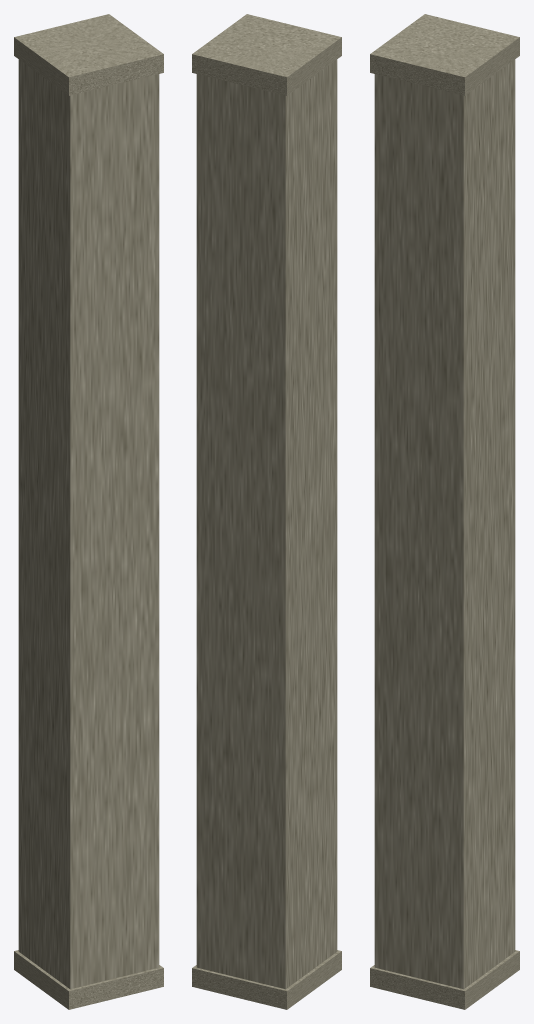
The model's file is pillar.glb.
3 views of the same model, side by side, from view 1: azimuth 30°, elevation 25°; view 2: azimuth 150°, elevation 25°; view 3: azimuth 330°, elevation 25° (orthographic).
Visible parts, largest first — view 1: pillar, pillar_cap, pillar_cap.001; view 2: pillar, pillar_cap, pillar_cap.001; view 3: pillar, pillar_cap, pillar_cap.001.
Part boxes in pixels (x1=…): pillar: x1=18, y1=16, x2=159, y2=989; pillar_cap: x1=14, y1=14, x2=163, y2=95; pillar_cap.001: x1=14, y1=950, x2=163, y2=1009; pillar: x1=196, y1=18, x2=337, y2=989; pillar_cap: x1=192, y1=14, x2=341, y2=95; pillar_cap.001: x1=192, y1=950, x2=341, y2=1009; pillar: x1=374, y1=16, x2=515, y2=989; pillar_cap: x1=370, y1=14, x2=519, y2=95; pillar_cap.001: x1=370, y1=950, x2=519, y2=1009.
Bounding box in the file's own units: 0.32 × 3 × 0.32.
Materials: 2 (2 with a texture image).
